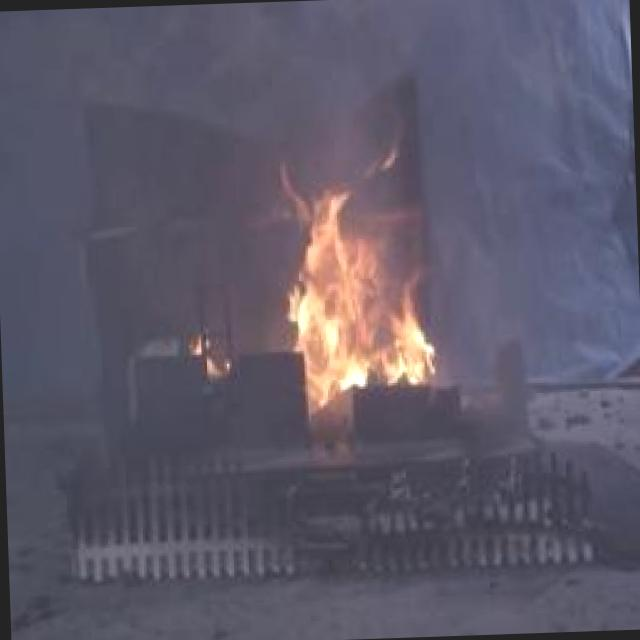fire: (284, 176, 426, 404)
